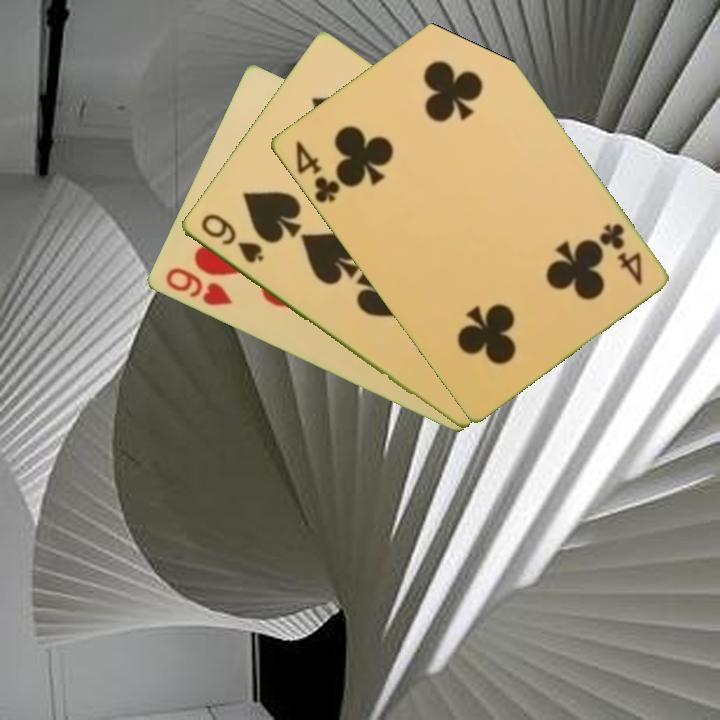4c: (291, 137, 343, 206), (595, 219, 645, 288)
9h: (161, 264, 235, 309)
9s: (196, 210, 267, 267)
